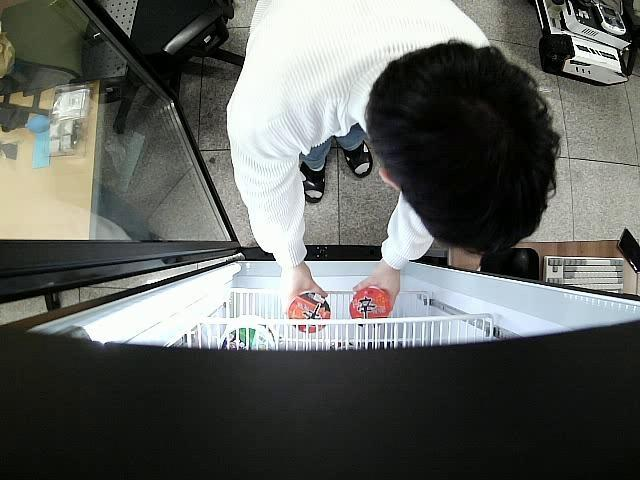02_shinRamen_S: (286, 290, 330, 333), (348, 286, 392, 328)
